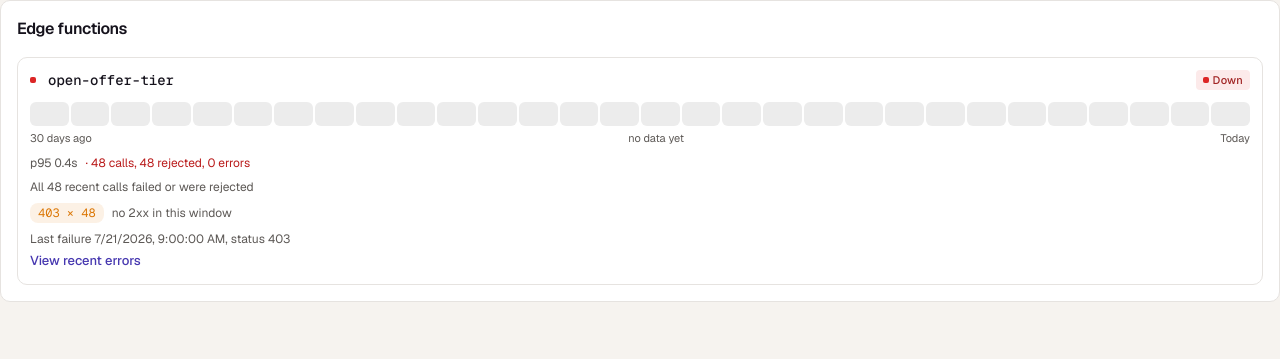
Test: EdgeFunctionsPanel › opens the recent-error detail region
The width and height of the screenshot is (1280, 359).
Click the button "View recent errors" at (85, 260), box [30,250,141,270]
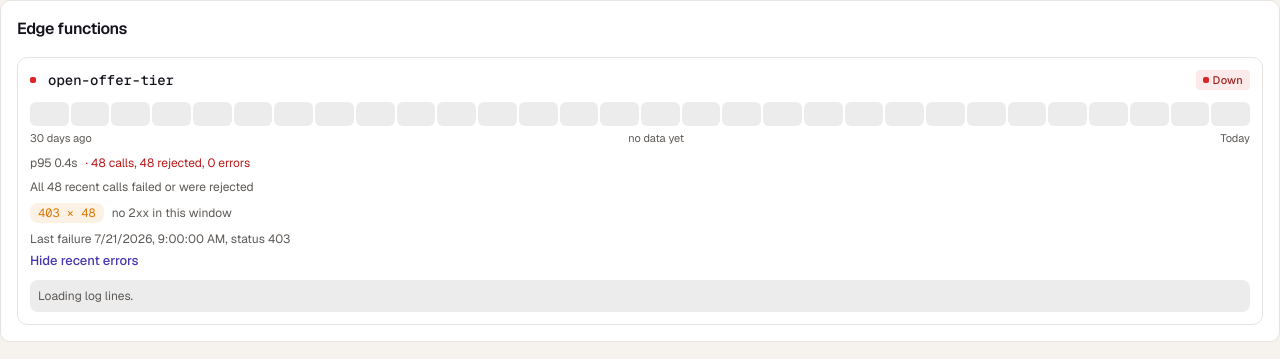
Now the button "Hide recent errors" is shown, box [30,250,139,270]
Now the text "Loading log lines." is shown, box [38,288,133,304]
